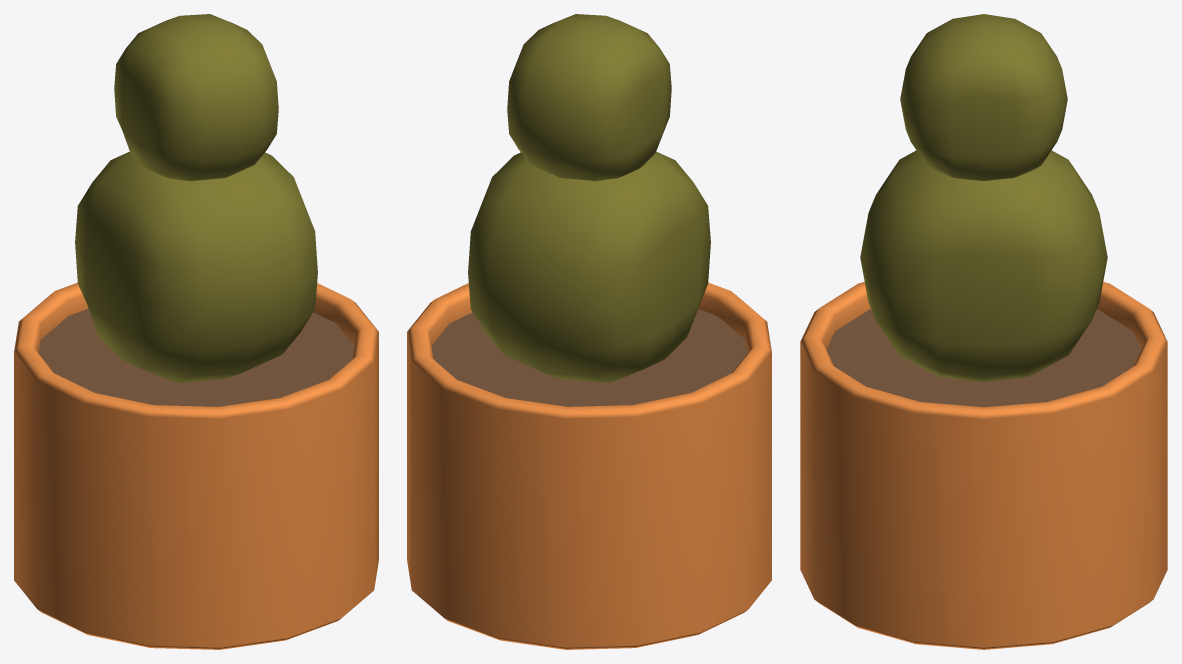
The model's file is Cactus_10.glb.
3 views of the same model, side by side, from view 1: azimuth 30°, elevation 25°; view 2: azimuth 150°, elevation 25°; view 3: azimuth 270°, elevation 25° (orthographic).
Visible parts, largest first — view 1: Cactus_10; view 2: Cactus_10; view 3: Cactus_10.
Boxes of the visible parts, x1=… form: Cactus_10: x1=14, y1=14, x2=378, y2=649; Cactus_10: x1=407, y1=14, x2=771, y2=649; Cactus_10: x1=800, y1=14, x2=1167, y2=649.
Bounding box in the file's own units: 0.2183 × 0.3615 × 0.2183.
1 material, 1 textured.
